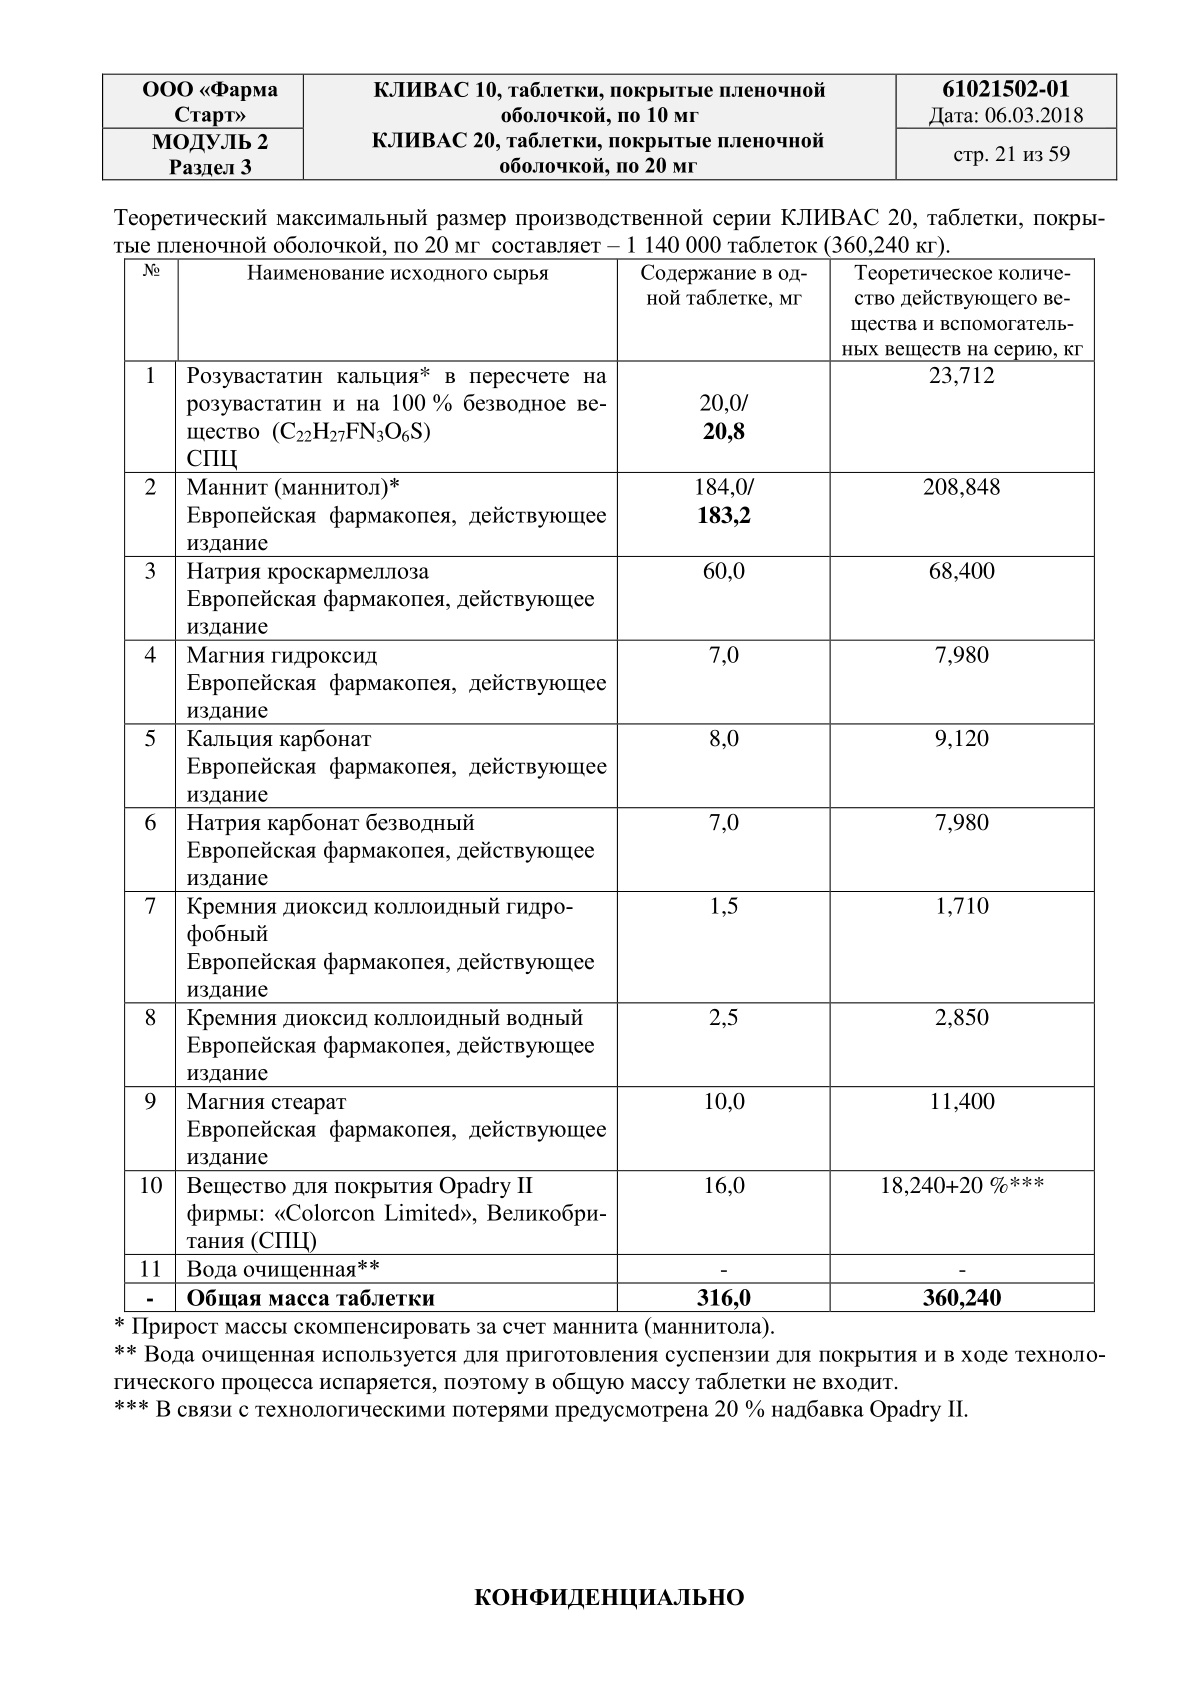full_lined: (122, 257, 1096, 1312)
merged_cells: (101, 72, 1119, 180)
